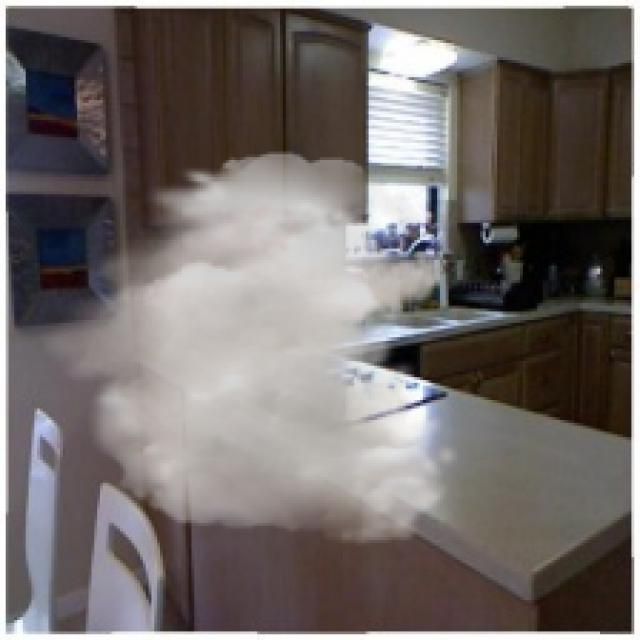Smoke: (34, 151, 460, 546)
